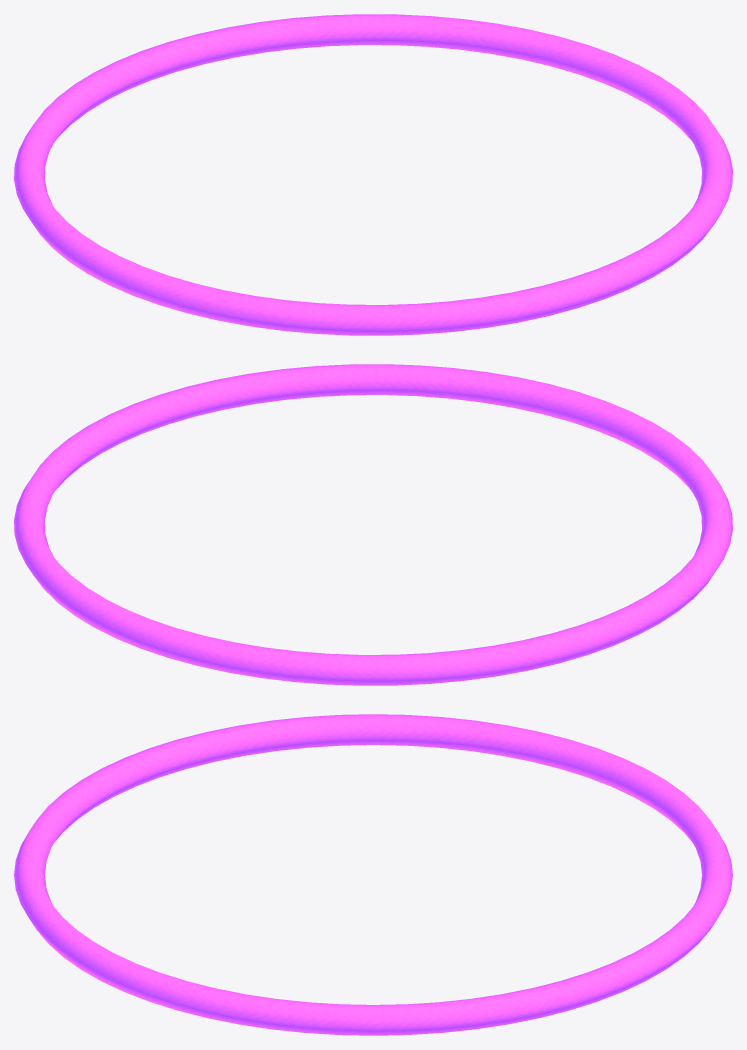
The model's file is FXM_WaveRing.fbx.
The picture shows the model from 3 angles, top to bottom: view 1: azimuth 30°, elevation 25°; view 2: azimuth 150°, elevation 25°; view 3: azimuth 270°, elevation 25°; orthographic projection.
Visible parts, largest first — view 1: SM_FXM_WaveRing; view 2: SM_FXM_WaveRing; view 3: SM_FXM_WaveRing.
Part boxes in pixels (box(x1,y1,x2,y2)): SM_FXM_WaveRing: box(14, 14, 732, 335); SM_FXM_WaveRing: box(14, 364, 732, 685); SM_FXM_WaveRing: box(14, 714, 732, 1035).
Bounding box in the file's own units: 209 × 209 × 7.79.
1 material, 1 textured.
